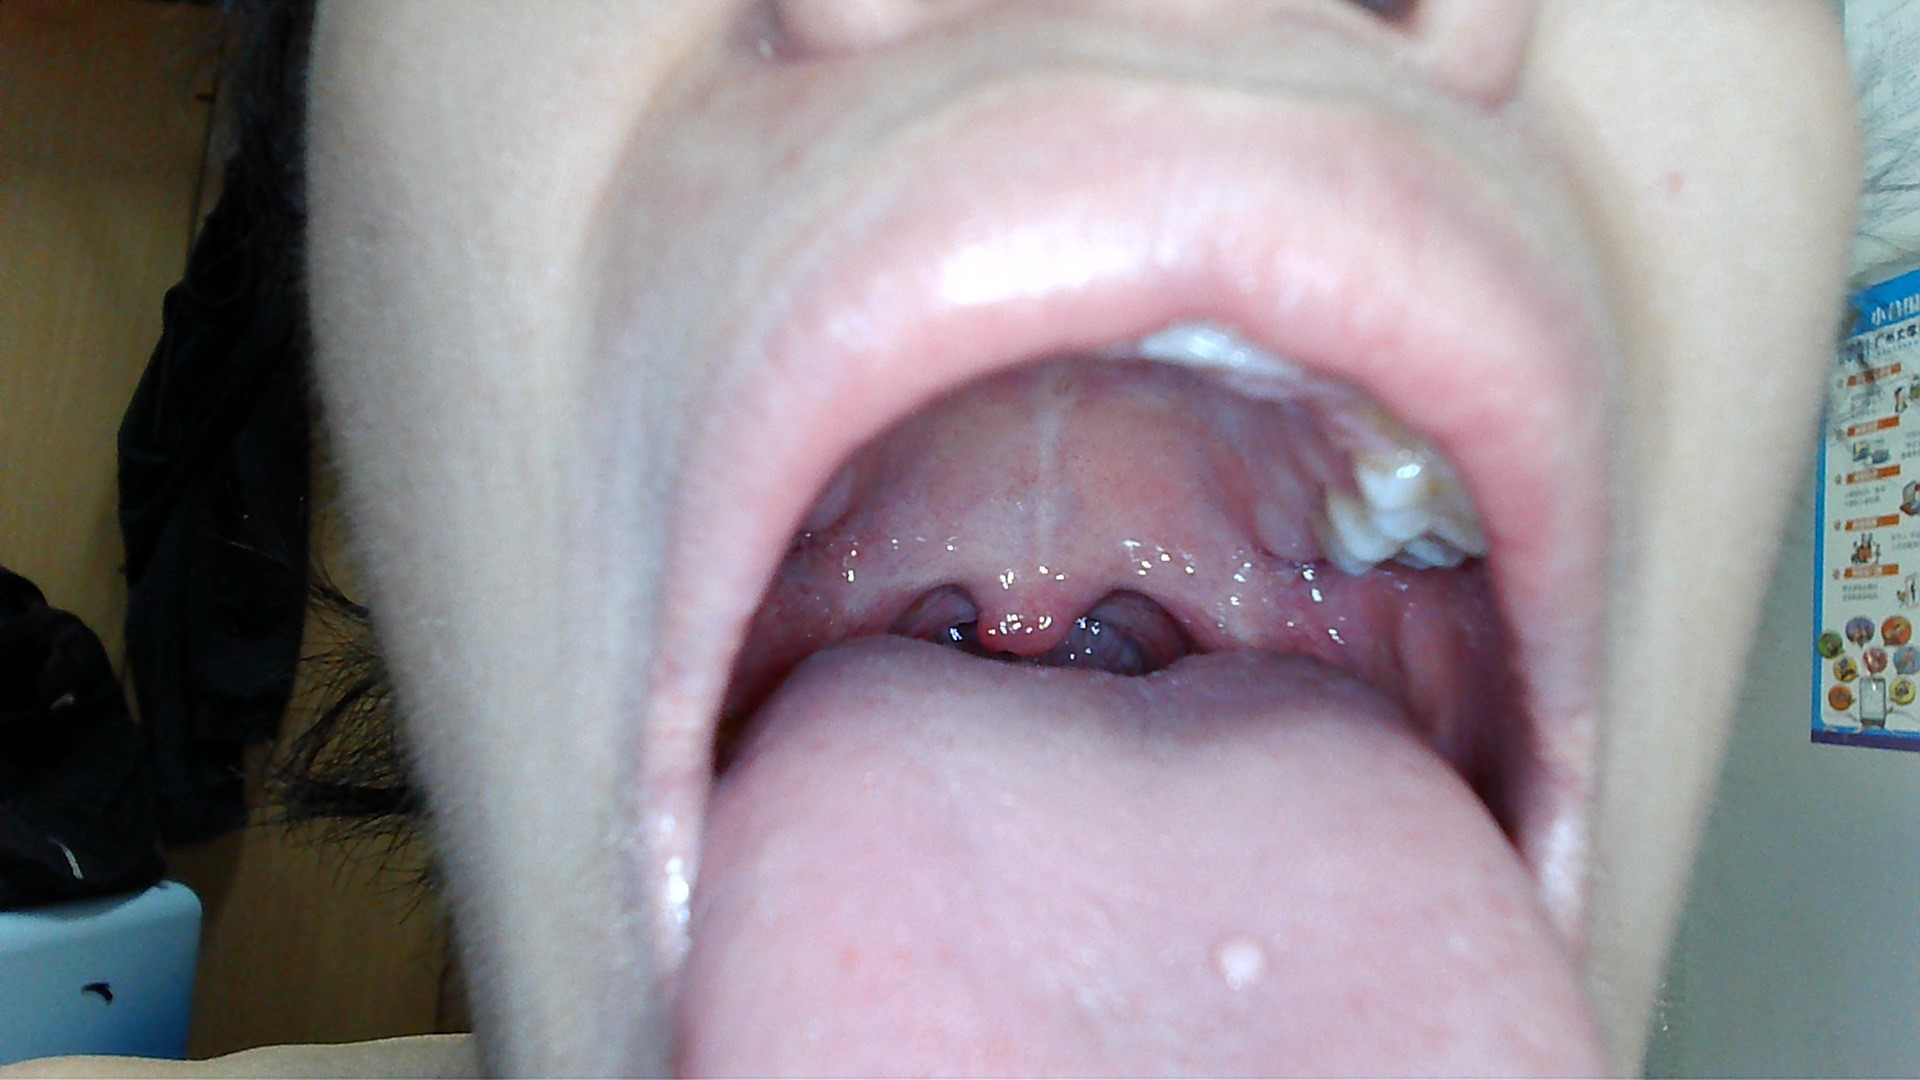throat: (1134, 535, 1246, 655), (837, 545, 930, 628)
